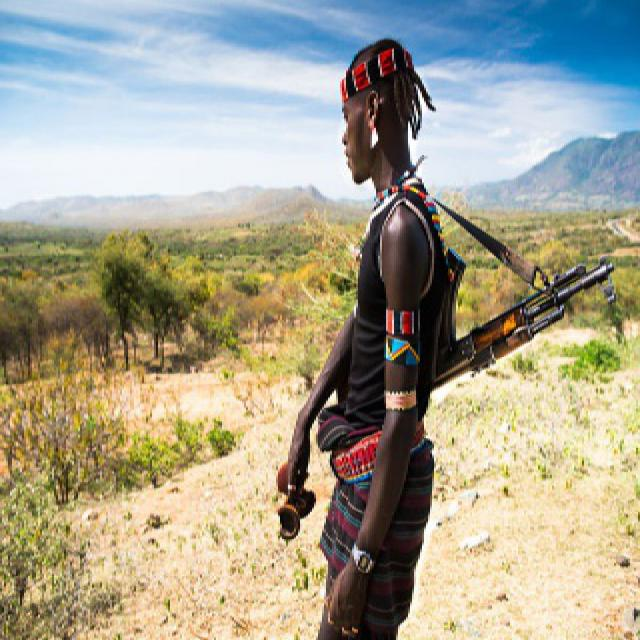long weapon: (434, 252, 622, 388)
